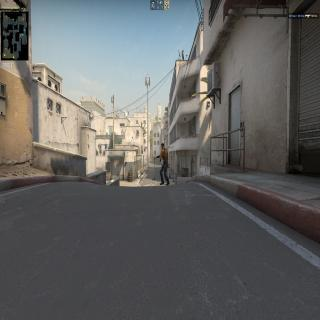T-Head: (161, 142, 165, 150)
